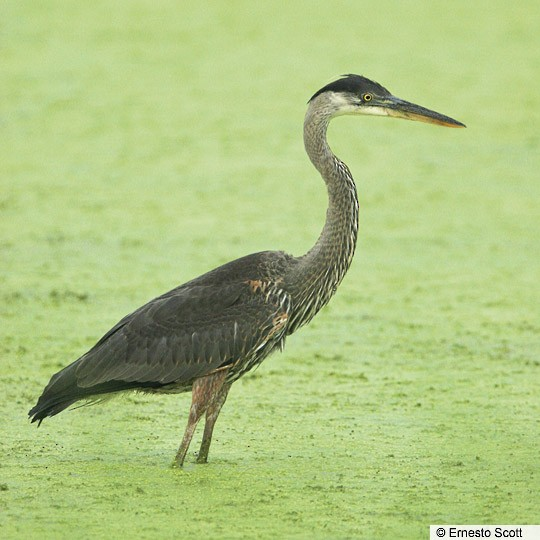heron: (20, 64, 472, 471)
